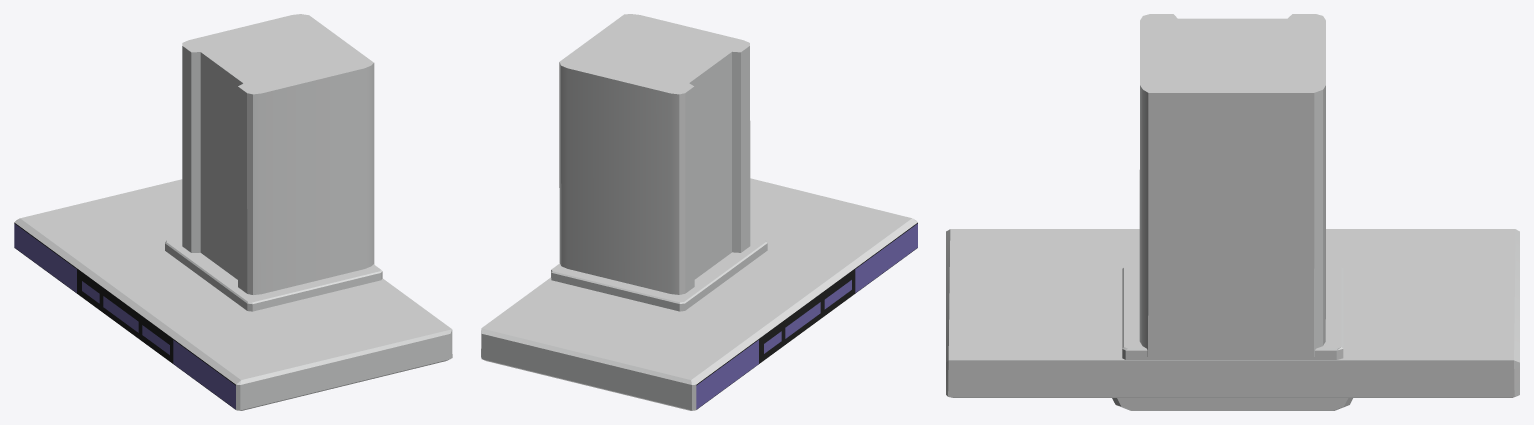
The model's file is CXW218T10C.FBX.
The picture shows the model from 3 angles, left to right: view 1: azimuth 30°, elevation 25°; view 2: azimuth 150°, elevation 25°; view 3: azimuth 270°, elevation 25°; orthographic projection. The views are drawn at different scales.
Visible parts, largest first — view 1: CXW218T10C; view 2: CXW218T10C; view 3: CXW218T10C.
Boxes of the visible parts, box(x1,y1,x2,y2) form: CXW218T10C: box(14, 14, 452, 410); CXW218T10C: box(481, 14, 917, 410); CXW218T10C: box(946, 14, 1519, 410).
Size of the model in its own units: 50 by 90 by 56.
